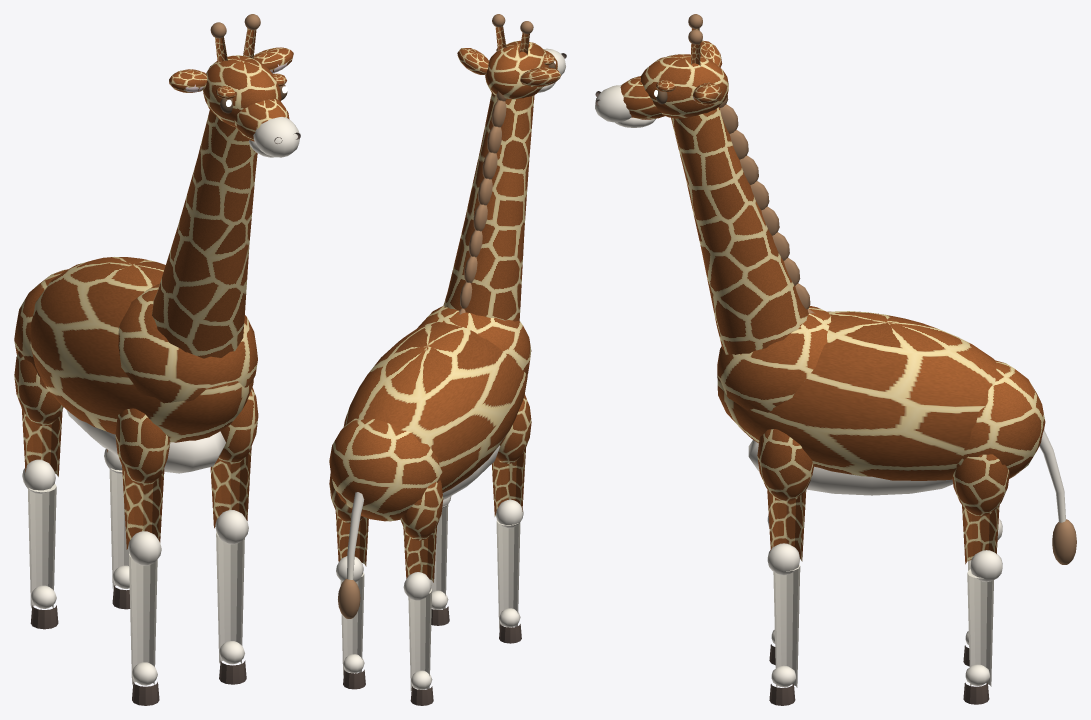
The model's file is anime_giraffe.glb.
The picture shows the model from 3 angles, left to right: view 1: azimuth 30°, elevation 25°; view 2: azimuth 150°, elevation 25°; view 3: azimuth 270°, elevation 25°; orthographic projection. The views are drawn at different scales.
Visible parts, largest first — view 1: anime_giraffe; view 2: anime_giraffe; view 3: anime_giraffe.
Part boxes in pixels (bbox=[...]): anime_giraffe: bbox=[14, 14, 300, 705]; anime_giraffe: bbox=[329, 14, 566, 705]; anime_giraffe: bbox=[595, 14, 1076, 705].
Bounding box in the file's own units: 1.12 × 4.94 × 3.28.
7 materials, 1 textured.
